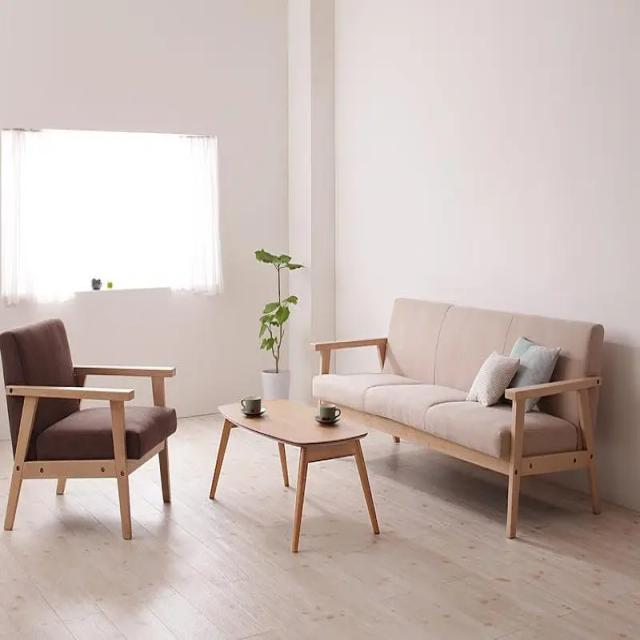natural chair: (3, 319, 182, 551)
natural desk: (208, 396, 379, 548)
natural sofa: (312, 292, 608, 525)
